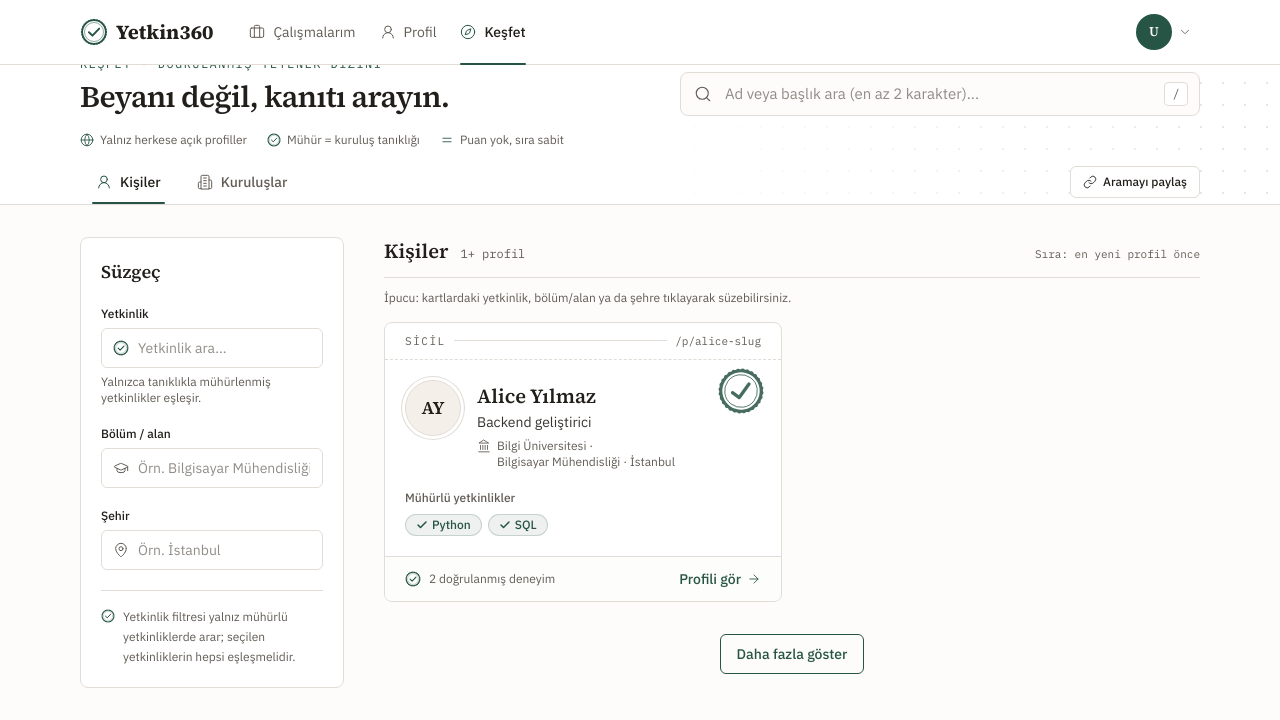
it: KesfetPage (/kesfet) › Öğrenciler sekmesi › daha fazla göster sonraki sayfayı imleçle ister ve listeye ekler
(page scrolled)
Expected: the heading "Alice Yılmaz" is shown, left=477, top=382, right=596, bottom=410
What coordinates should you click on to do the following:
click the button "Daha fazla göster"
I would click on:
 (792, 654)
Its box is left=720, top=634, right=864, bottom=674.
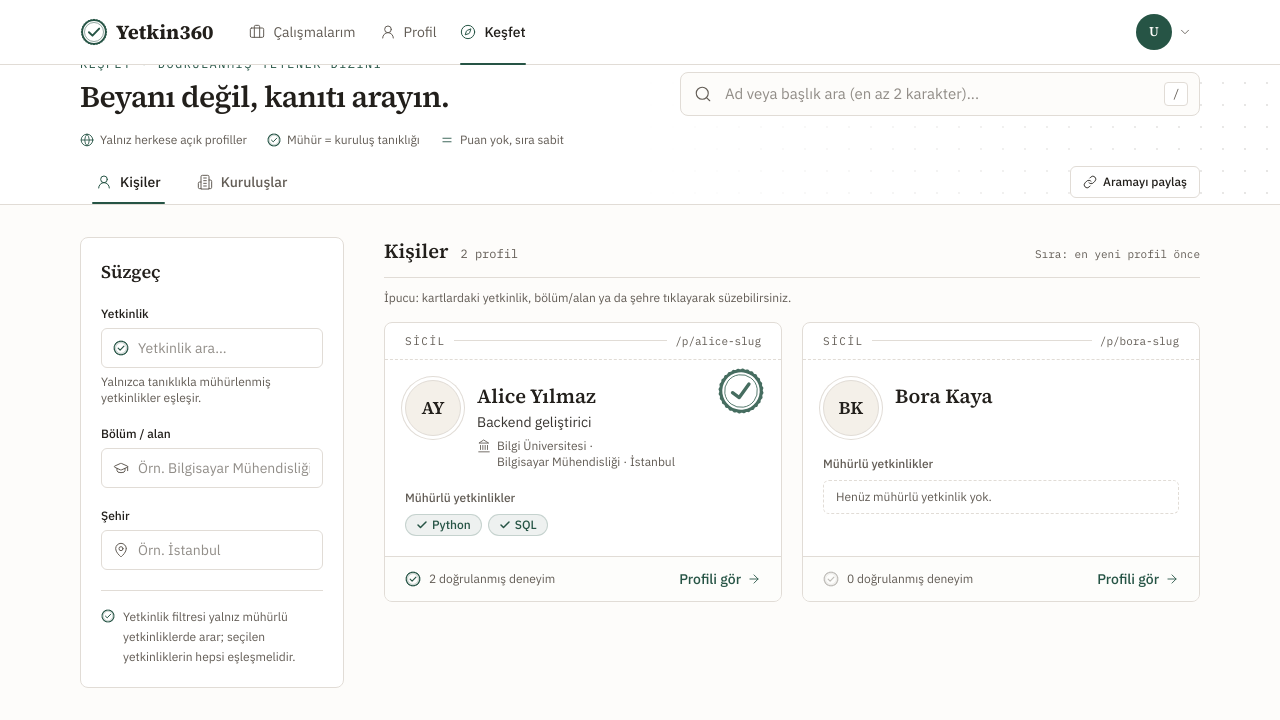
Expected: the heading "Alice Yılmaz" is shown, left=477, top=382, right=596, bottom=410
Expected: the heading "Bora Kaya" is shown, left=895, top=382, right=993, bottom=410
Expected: the button "Daha fazla göster" is gone
